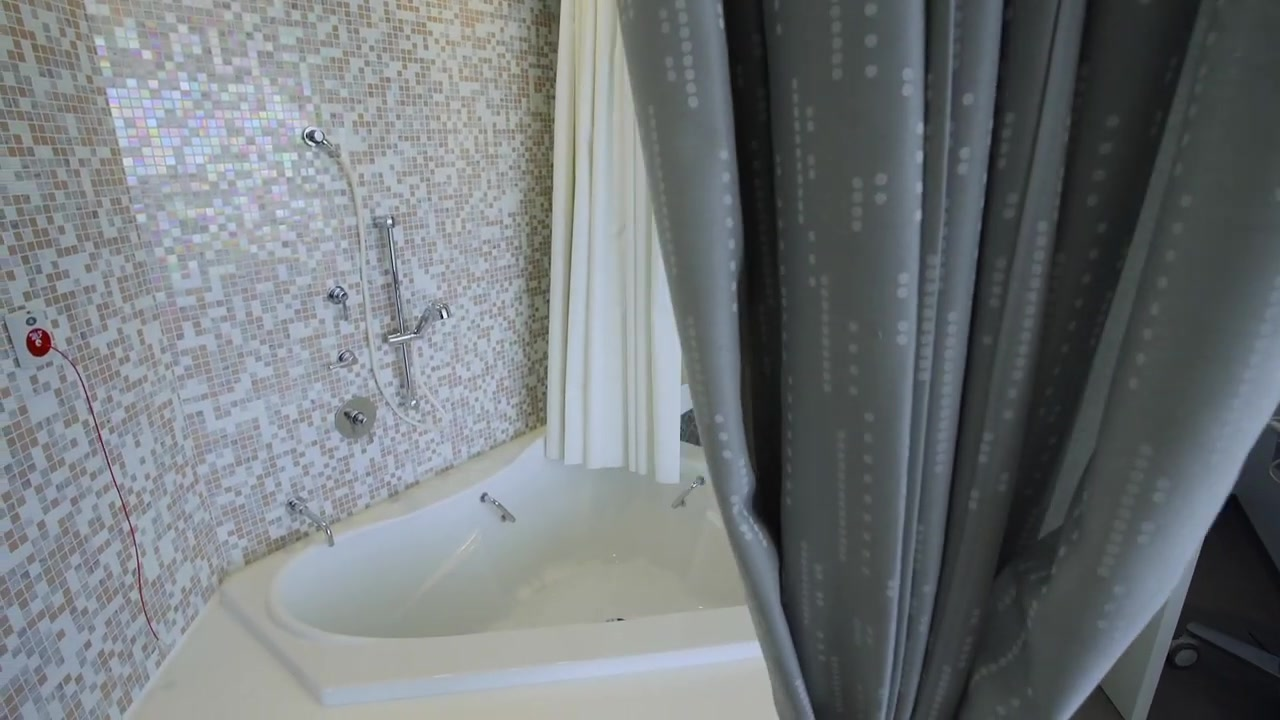curtain: (615, 1, 1280, 720), (544, 1, 681, 486)
faucet: (333, 394, 380, 444), (326, 287, 352, 323), (326, 356, 365, 376)
restroom_assist_bar: (378, 210, 424, 405), (285, 494, 345, 541), (659, 470, 706, 516), (466, 493, 526, 529)
